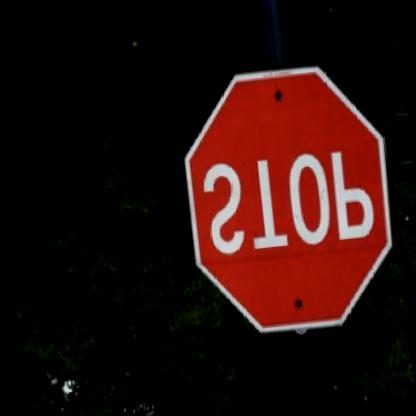stop: (173, 59, 402, 340)
